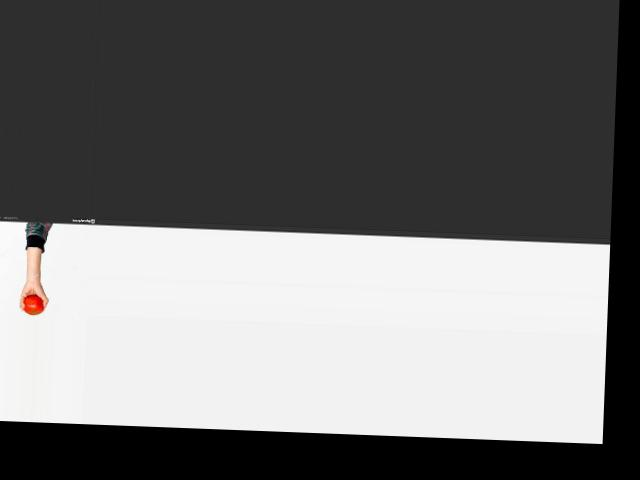tomato: (22, 294, 44, 315)
